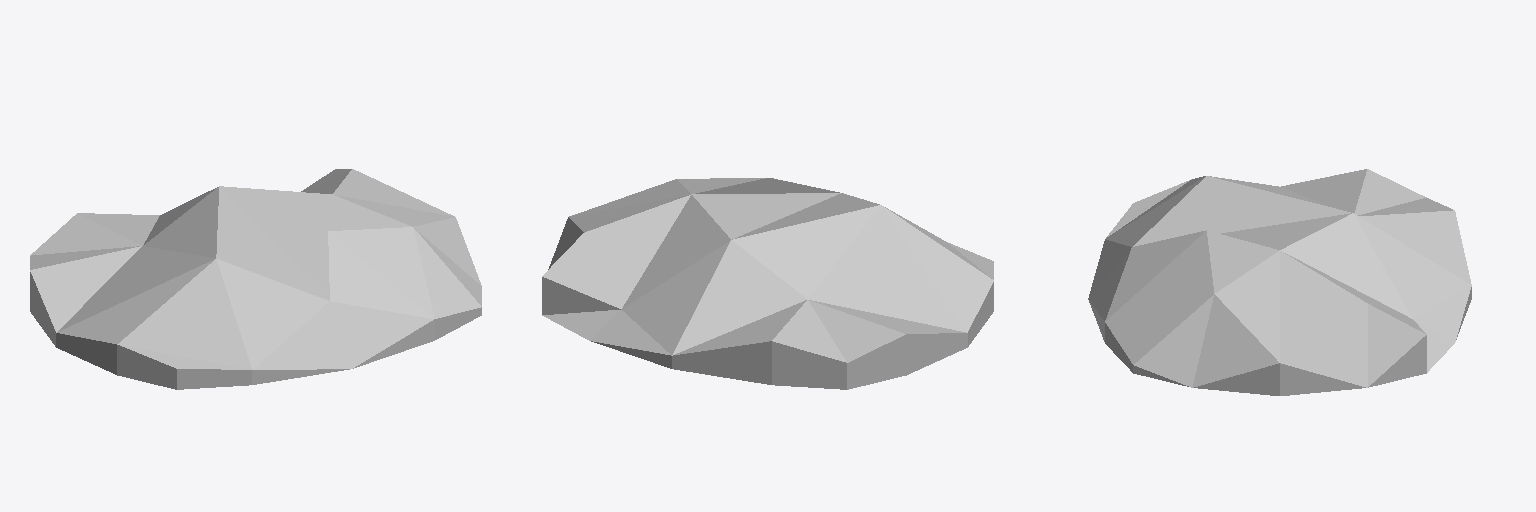
The model's file is corn_chop_3.obj.
The picture shows the model from 3 angles: view 1: azimuth 30°, elevation 25°; view 2: azimuth 150°, elevation 25°; view 3: azimuth 270°, elevation 25°; orthographic projection.
Visible parts, largest first — view 1: pCube61 Corn; view 2: pCube61 Corn; view 3: pCube61 Corn.
Part boxes in pixels (x1,y1,x2,y2): pCube61 Corn: (30,169,481,389); pCube61 Corn: (542,178,993,389); pCube61 Corn: (1088,169,1471,395).
Bounding box in the file's own units: 0.4949 × 0.1017 × 0.4116.